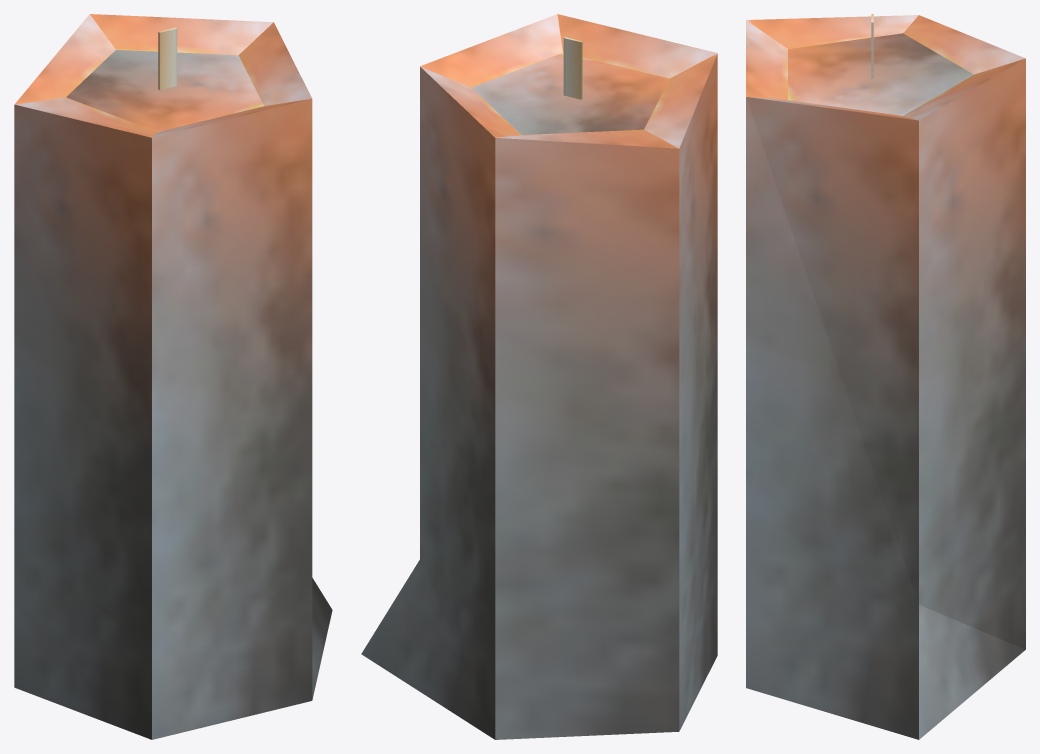
File: candle.gltf
3 views of the same model, side by side, from view 1: azimuth 30°, elevation 25°; view 2: azimuth 150°, elevation 25°; view 3: azimuth 270°, elevation 25° (orthographic).
Parts seen in each view (by area): view 1: candle0; view 2: candle0; view 3: candle0.
Boxes of the visible parts, bbox=[...] form: candle0: bbox=[14, 14, 332, 739]; candle0: bbox=[361, 14, 717, 739]; candle0: bbox=[746, 14, 1025, 739].
Size of the model in its own units: 0.0467 by 0.0901 by 0.0362.
1 material, 1 textured.
